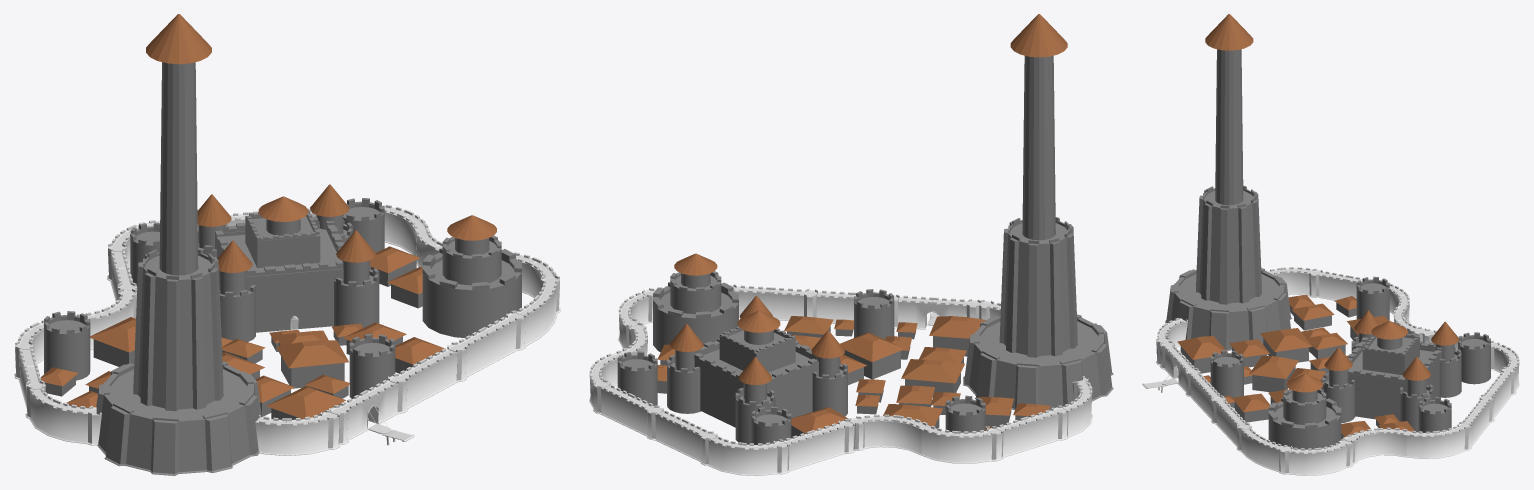
The model's file is castle.FBX.
The picture shows the model from 3 angles, left to right: view 1: azimuth 30°, elevation 25°; view 2: azimuth 150°, elevation 25°; view 3: azimuth 270°, elevation 25°; orthographic projection. The views are drawn at different scales.
Parts seen in each view (by area): view 1: Cylinder002, Cylinder003, Box025, Cylinder017, Box016, Box030, Box035, Cylinder018, Box015, Cylinder006, Box003, Cylinder004 (+35 smaller); view 2: Cylinder002, Box025, Cylinder003, Box013, Box010, Box030, Cylinder018, Box035, Box012, Cylinder014, Box011, Box014 (+30 smaller); view 3: Cylinder002, Box025, Cylinder003, Cylinder015, Box007, Box005, Cylinder018, Box030, Box035, Cylinder017, Box039, Box006 (+28 smaller).
Boxes of the visible parts, box(x1,y1,x2,y2) form: Cylinder002: box(96, 14, 261, 475); Cylinder003: box(422, 248, 521, 337); Box025: box(215, 224, 343, 332); Cylinder017: box(44, 311, 90, 380); Box016: box(255, 412, 340, 455); Box030: box(245, 215, 320, 268); Box035: box(276, 340, 348, 388); Cylinder018: box(349, 334, 395, 398); Box015: box(29, 390, 101, 445); Cylinder006: box(334, 265, 379, 327); Box003: box(448, 313, 526, 382); Cylinder004: box(442, 235, 501, 285); Cylinder002: box(963, 14, 1113, 410); Box025: box(694, 346, 818, 427); Cylinder003: box(653, 282, 738, 351); Box013: box(921, 428, 1003, 463); Box010: box(708, 439, 789, 475); Box030: box(719, 329, 795, 372); Cylinder018: box(854, 289, 894, 339); Box035: box(840, 332, 905, 379); Box012: box(851, 418, 921, 454); Cylinder014: box(617, 351, 657, 405); Box011: box(789, 421, 855, 470); Box014: box(1003, 408, 1068, 457); Cylinder002: box(1165, 14, 1292, 351); Box025: box(1348, 347, 1441, 421); Cylinder003: box(1268, 398, 1341, 449); Cylinder015: box(1458, 332, 1490, 384); Box007: box(1406, 423, 1471, 458); Box005: box(1288, 440, 1353, 475); Cylinder018: box(1210, 350, 1243, 397); Box030: box(1362, 336, 1419, 375); Box035: box(1249, 356, 1298, 392); Cylinder017: box(1356, 276, 1389, 320); Box039: box(1260, 328, 1312, 362); Box006: box(1345, 430, 1406, 463).
Size of the model in its own units: 83.26 by 66.44 by 71.46.
